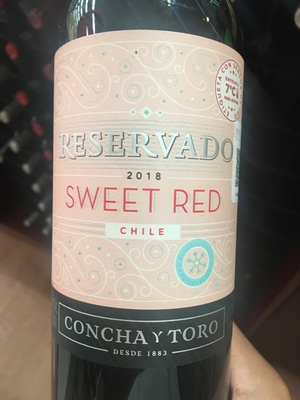reservado sweet red: (55, 1, 242, 400)
